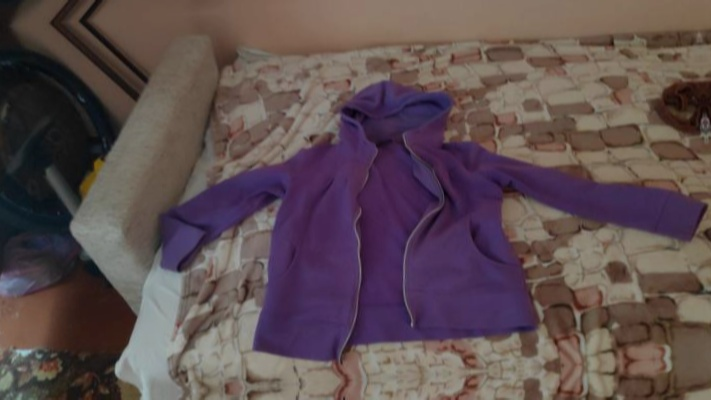Hoodie: (142, 46, 711, 368), (165, 381, 711, 400), (702, 7, 711, 329)
